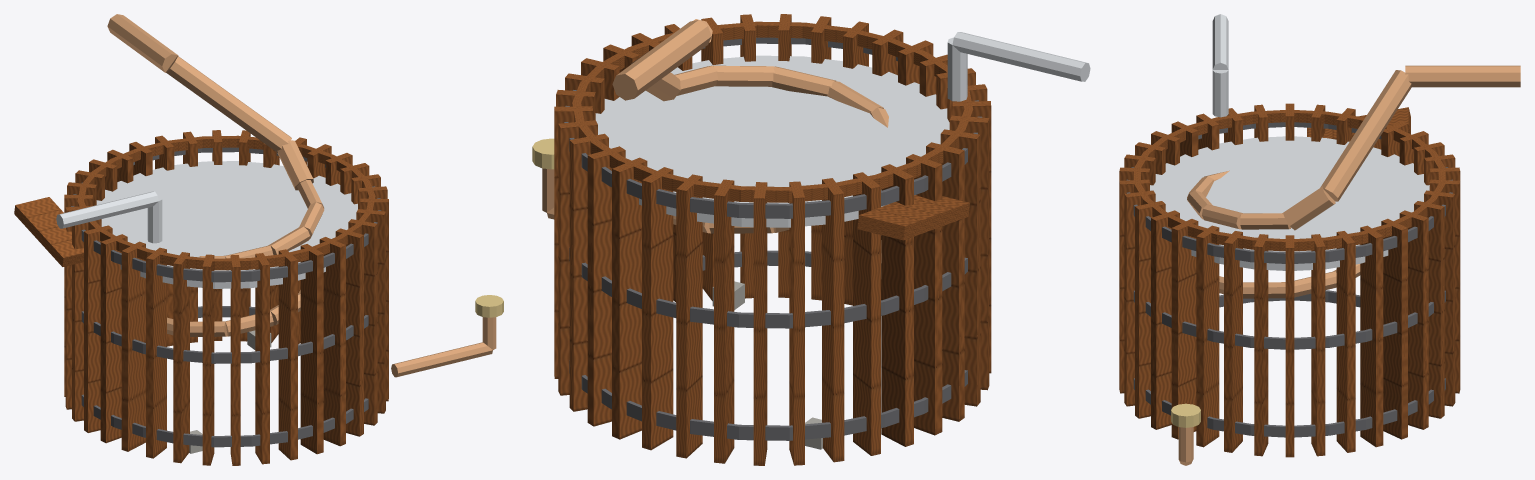
Rendered from distillery-and-bonded-warehouse-worm-tub-56a153d2__38662.glb.
3 views of the same model, side by side, from view 1: azimuth 30°, elevation 25°; view 2: azimuth 150°, elevation 25°; view 3: azimuth 270°, elevation 25° (orthographic). The views are drawn at different scales.
Visible parts, largest first — view 1: worm-tub-timber, worm-tub-steel, worm-tub-copper, worm-tub-iron, worm-tub-brass; view 2: worm-tub-timber, worm-tub-steel, worm-tub-iron, worm-tub-copper, worm-tub-brass, worm-tub-stone; view 3: worm-tub-timber, worm-tub-steel, worm-tub-copper, worm-tub-iron, worm-tub-brass.
Boxes of the visible parts, x1,y1,x2,y2 form: worm-tub-timber: [14, 130, 388, 465]; worm-tub-steel: [56, 161, 357, 288]; worm-tub-copper: [107, 14, 496, 377]; worm-tub-iron: [71, 147, 381, 447]; worm-tub-brass: [475, 295, 503, 317]; worm-tub-timber: [554, 14, 991, 465]; worm-tub-steel: [595, 32, 1090, 227]; worm-tub-iron: [564, 37, 982, 440]; worm-tub-copper: [542, 19, 888, 278]; worm-tub-brass: [532, 138, 554, 169]; worm-tub-stone: [712, 281, 822, 449]; worm-tub-timber: [1119, 103, 1460, 457]; worm-tub-steel: [1150, 14, 1429, 270]; worm-tub-copper: [1178, 65, 1520, 465]; worm-tub-iron: [1126, 122, 1452, 437]; worm-tub-brass: [1171, 403, 1200, 427].
Size of the model in its own units: 4.48 by 3.05 by 3.48.
6 materials, 2 textured.
